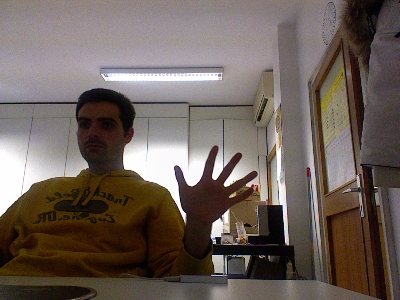布: (172, 144, 258, 223)
